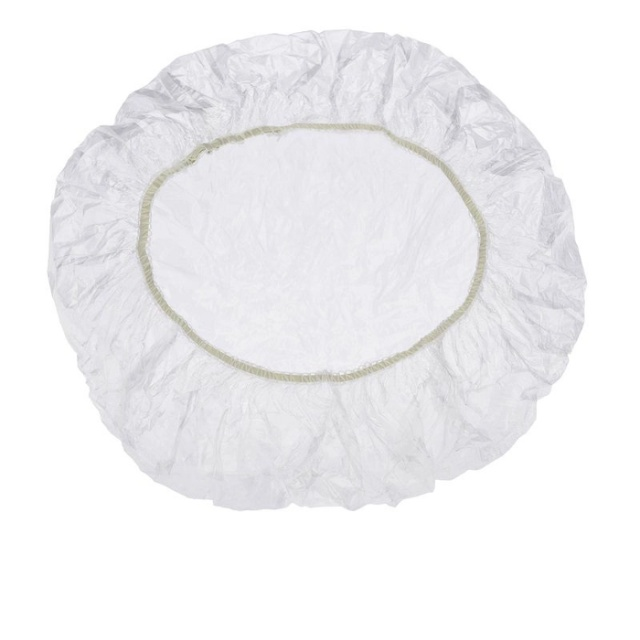Hairnet: (44, 28, 593, 499)
